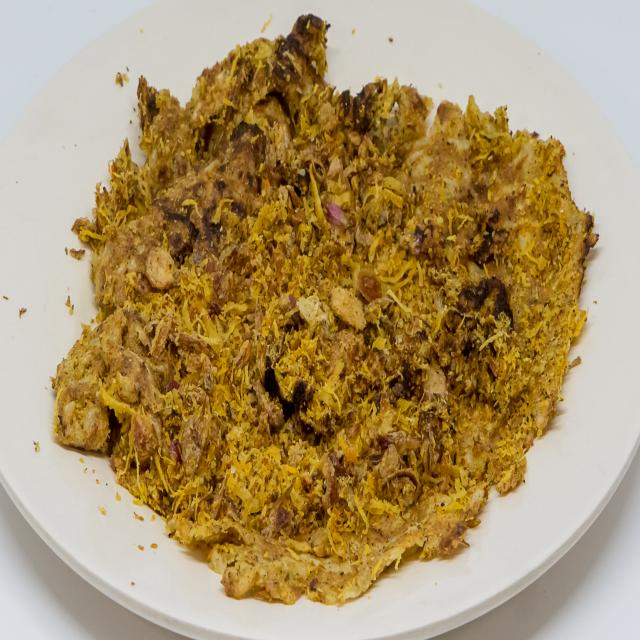Kerak-Telor: (47, 11, 607, 618)
